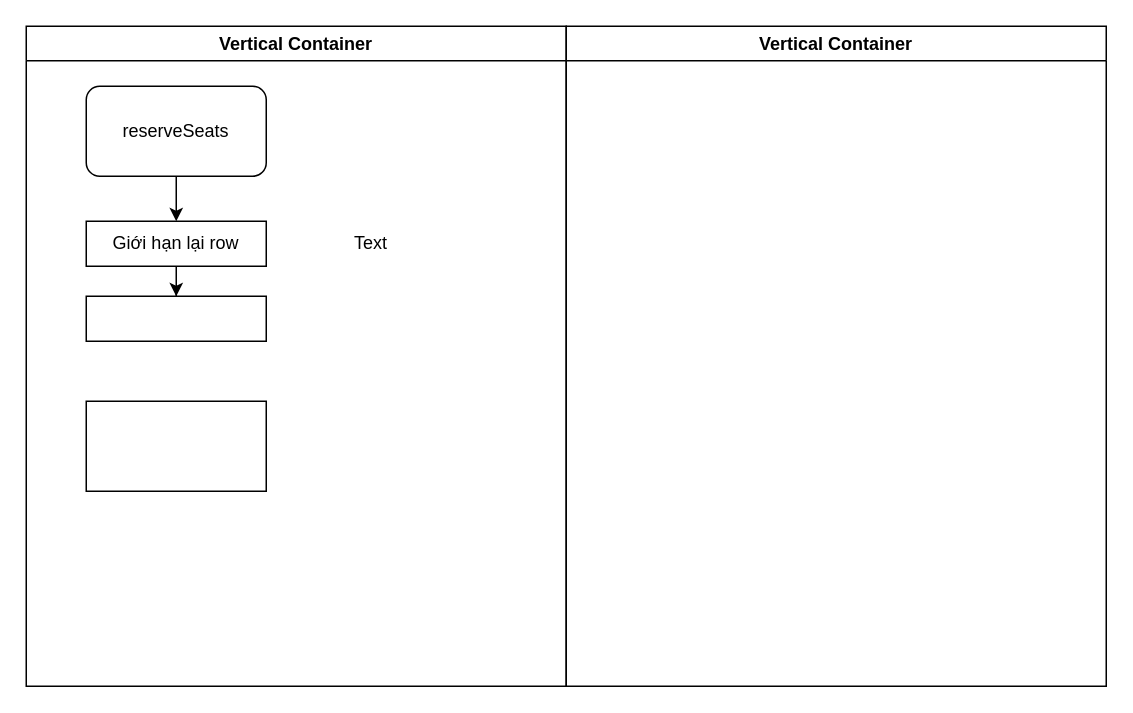
Some shapes in this 1133 by 713 pixel diagram are drawn without their labels. Here are the shapes that lost their labels. From the top down, the box of each, then its label:
(85, 295, 266, 341): kiểm tra hợp lệ validate
(85, 400, 266, 491): Kiểm tra ghế còn trống
